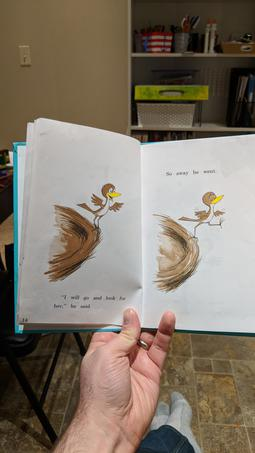text block: (46, 289, 131, 317), (161, 163, 219, 182)
